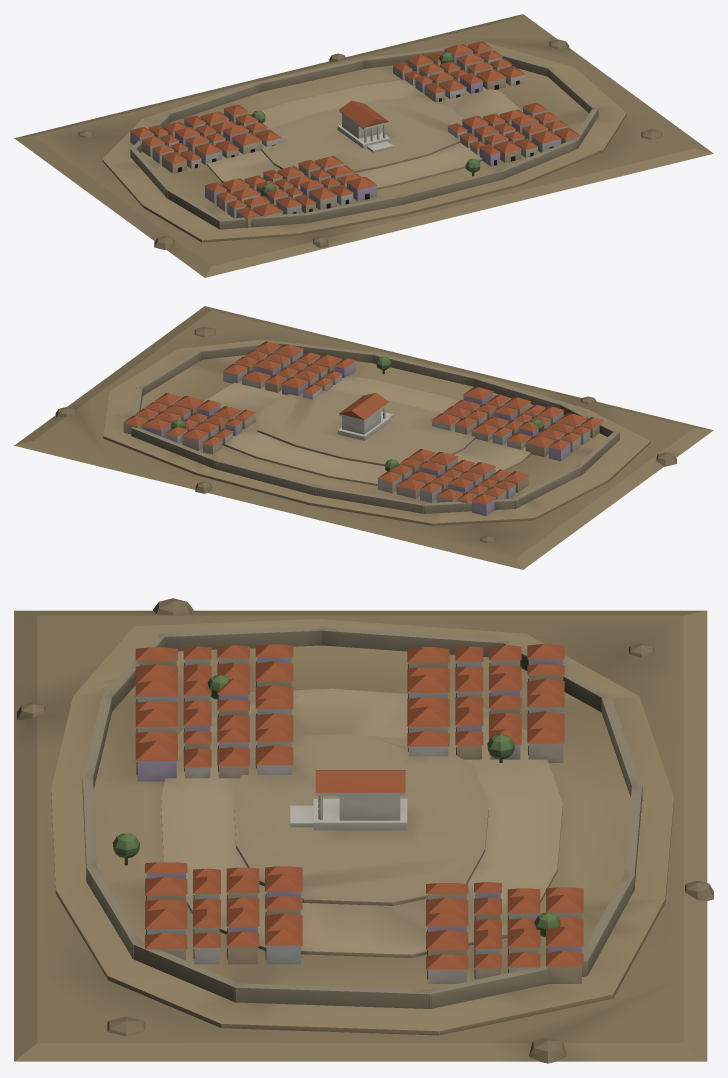
File: castelo-roman.glb
3 views of the same model, one above another, from view 1: azimuth 30°, elevation 25°; view 2: azimuth 150°, elevation 25°; view 3: azimuth 270°, elevation 25° (orthographic). The views are drawn at different scales.
Visible parts, largest first — view 1: p1_walls, p0_hill, p2_castle; view 2: p1_walls, p0_hill, p2_castle; view 3: p0_hill, p1_walls, p2_castle.
Boxes of the visible parts, x1,y1,x2,y2 form: p1_walls: [129, 41, 598, 229]; p0_hill: [14, 14, 713, 277]; p2_castle: [251, 52, 480, 197]; p1_walls: [123, 341, 619, 515]; p0_hill: [14, 306, 713, 569]; p2_castle: [171, 356, 544, 471]; p0_hill: [14, 598, 713, 1063]; p1_walls: [82, 626, 642, 1008]; p2_castle: [112, 675, 560, 936].
Size of the model in its own units: 232 by 15.5 by 149.
